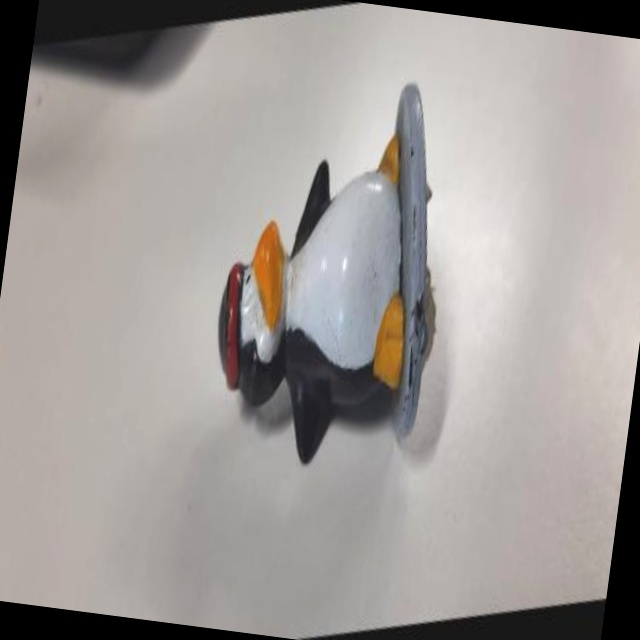Penguin: (175, 30, 486, 517)
